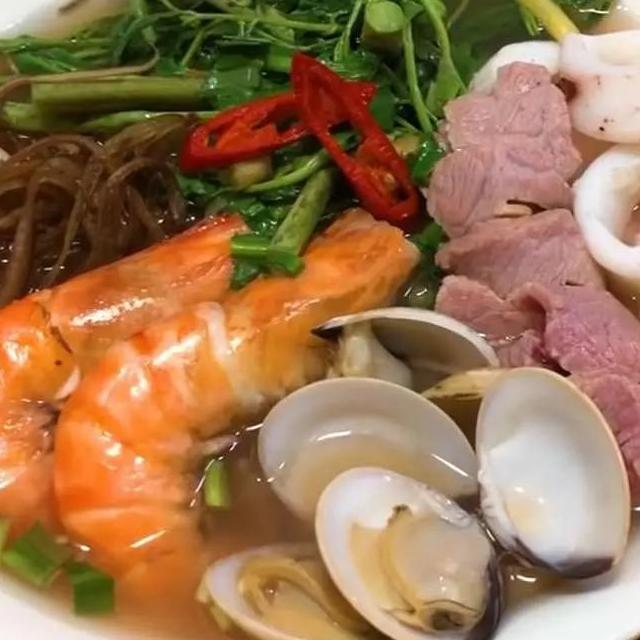bun hai san: (0, 0, 640, 640)
muc: (561, 116, 640, 402), (544, 20, 640, 154)
thit bo: (433, 266, 640, 516), (426, 200, 640, 391), (408, 58, 586, 251)
tom: (39, 198, 427, 640), (0, 206, 273, 555)
